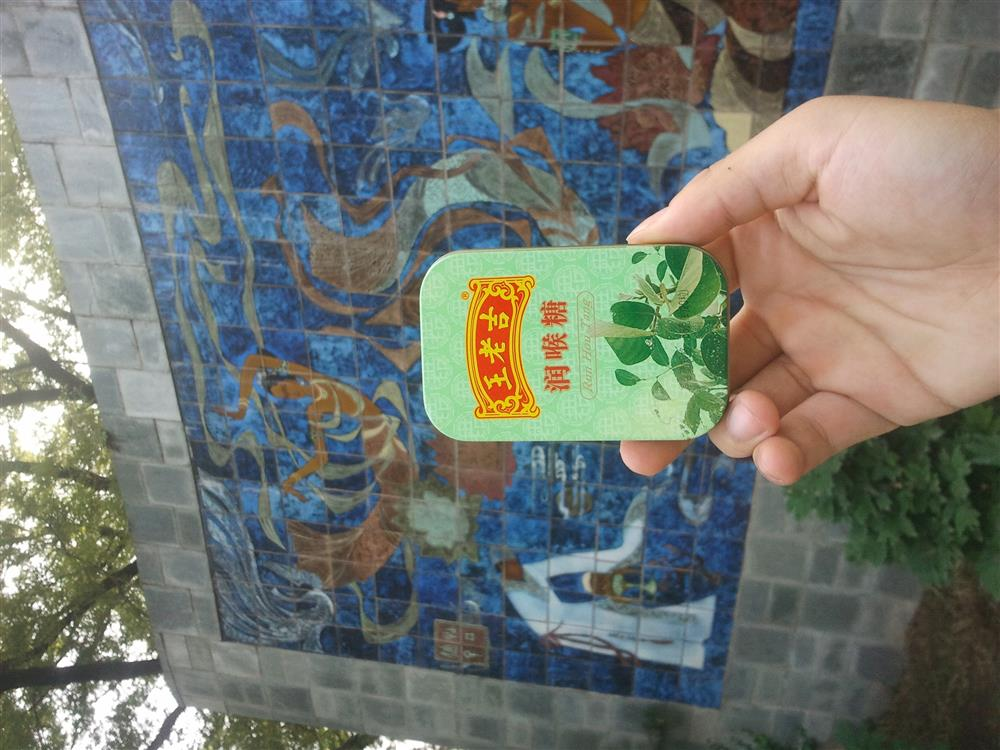run_hou_tang: (410, 231, 753, 462)
